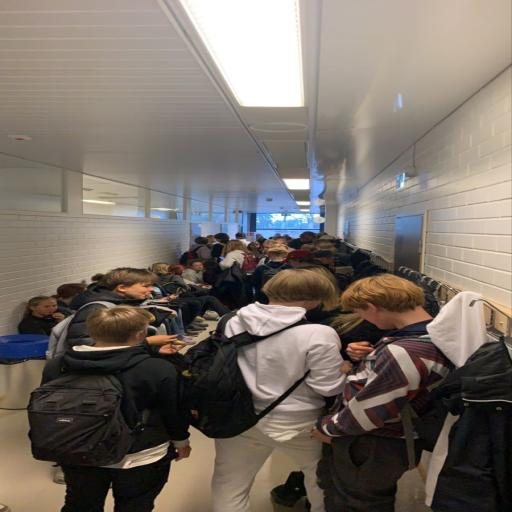hole: (314, 274, 450, 511), (213, 270, 344, 511), (43, 306, 190, 511), (67, 268, 157, 347), (160, 264, 230, 315), (327, 312, 385, 360), (215, 240, 253, 308), (252, 245, 291, 302), (303, 265, 340, 324), (18, 296, 65, 335), (53, 283, 86, 316), (219, 240, 250, 270), (285, 250, 317, 268), (190, 237, 212, 261), (182, 260, 203, 285), (259, 239, 278, 264), (211, 233, 229, 259), (289, 232, 316, 249), (313, 250, 335, 268), (150, 262, 169, 277), (248, 242, 263, 259), (87, 273, 103, 287), (236, 232, 249, 245), (255, 233, 267, 244), (302, 243, 316, 252), (207, 235, 216, 248)
